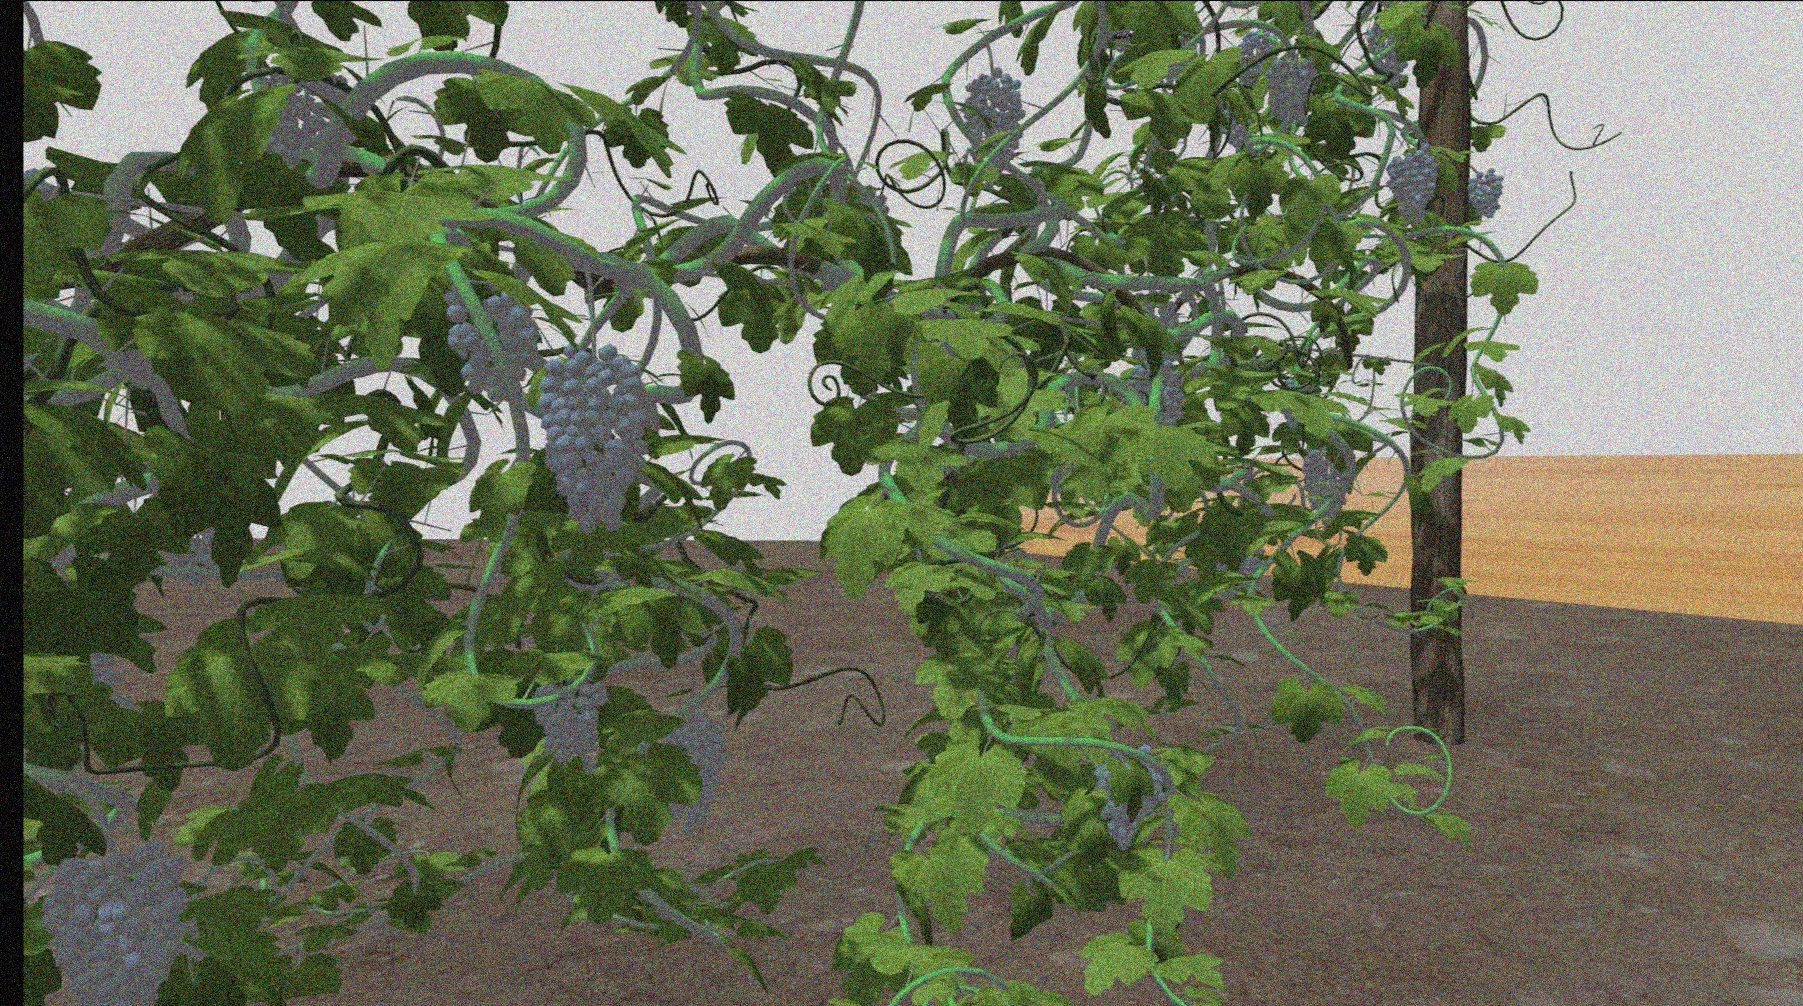grape: (40, 845, 193, 1001), (541, 347, 646, 529), (445, 287, 539, 400), (655, 709, 727, 844), (531, 675, 608, 771), (958, 67, 1027, 165), (1379, 147, 1440, 223), (1266, 57, 1319, 131), (1303, 448, 1352, 525), (1465, 167, 1510, 232)
